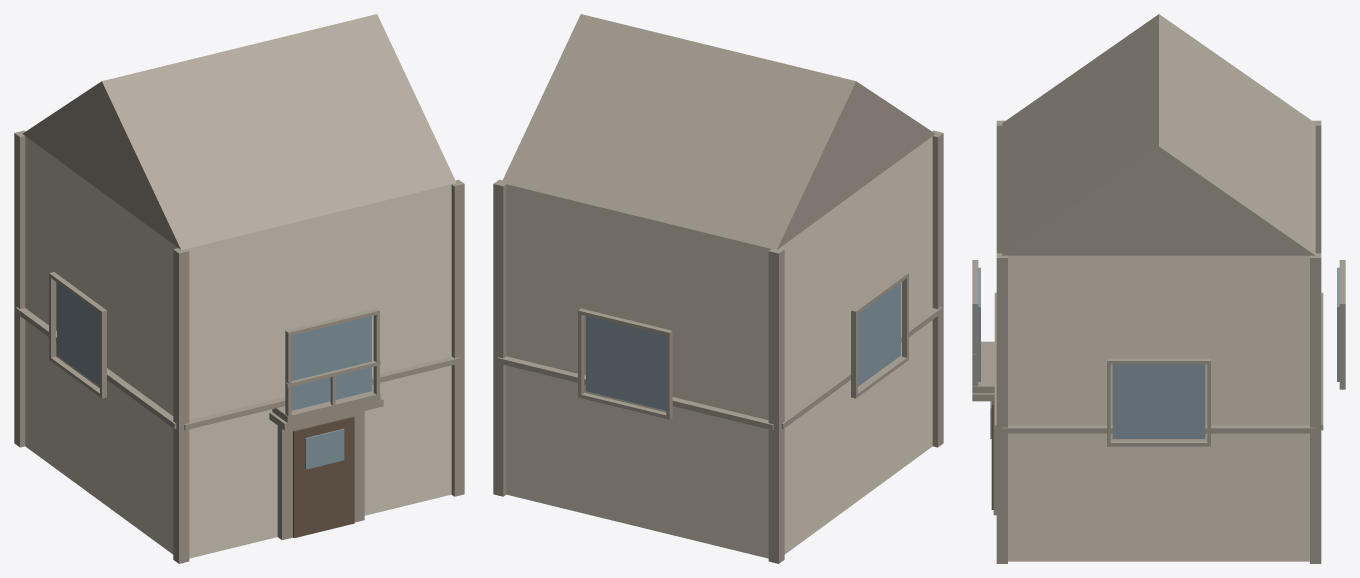
File: lot_1x1.glb
3 renders of one model, left to right at view 1: azimuth 30°, elevation 25°; view 2: azimuth 150°, elevation 25°; view 3: azimuth 270°, elevation 25°, orthographic.
Visible parts, largest first — view 1: lot_1x1; view 2: lot_1x1; view 3: lot_1x1.
Boxes of the visible parts, x1,y1,x2,y2 form: lot_1x1: (14, 14, 464, 563); lot_1x1: (493, 14, 943, 563); lot_1x1: (972, 14, 1345, 563).
Bounding box in the file's own units: 7.74 × 9.5 × 7.74.
